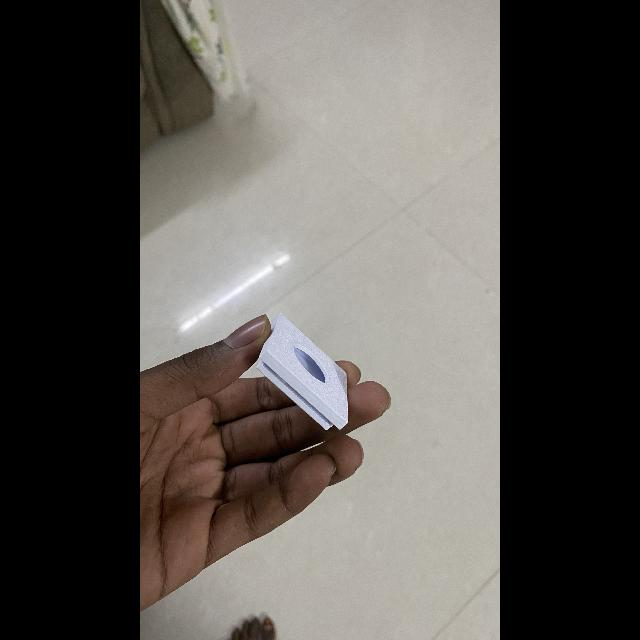RASPBERY PI CAM ENCLOSURE: (257, 314, 348, 429)
